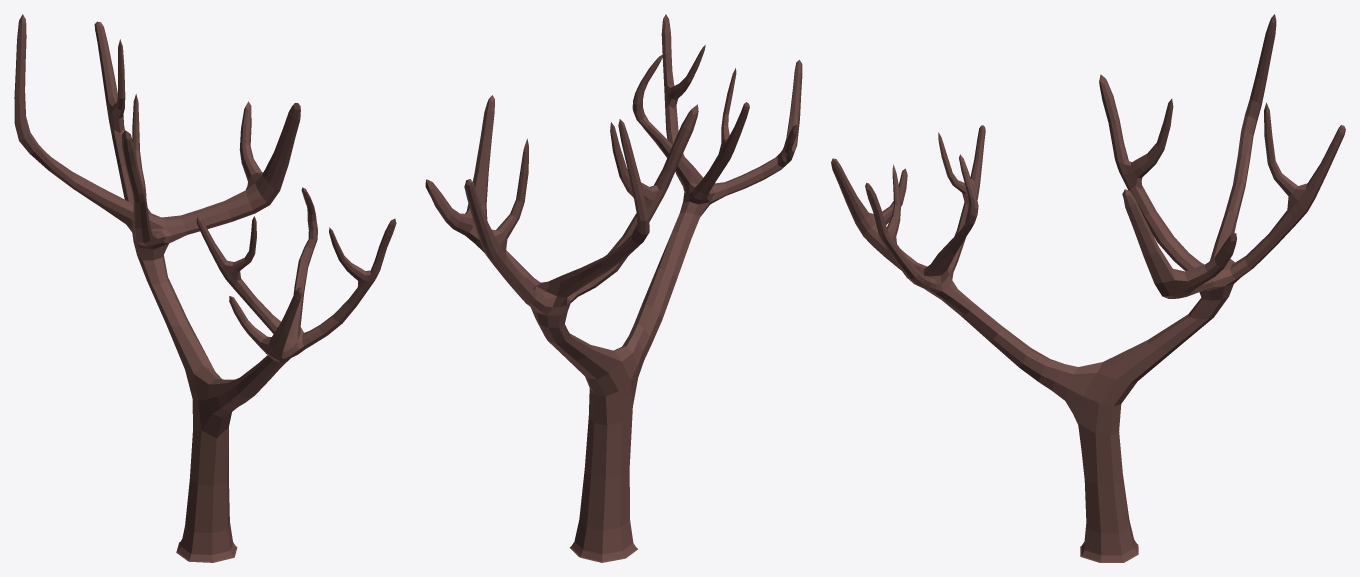
Rendered from common_tree_dead_1.glb.
3 views of the same model, side by side, from view 1: azimuth 30°, elevation 25°; view 2: azimuth 150°, elevation 25°; view 3: azimuth 270°, elevation 25° (orthographic). The views are drawn at different scales.
Visible parts, largest first — view 1: common_tree_dead_1; view 2: common_tree_dead_1; view 3: common_tree_dead_1.
Boxes of the visible parts, bbox=[...] form: common_tree_dead_1: bbox=[14, 14, 396, 562]; common_tree_dead_1: bbox=[425, 14, 802, 562]; common_tree_dead_1: bbox=[831, 14, 1345, 562].
Bounding box in the file's own units: 1.04 × 2.22 × 2.12.
Materials: 1 (1 with a texture image).
